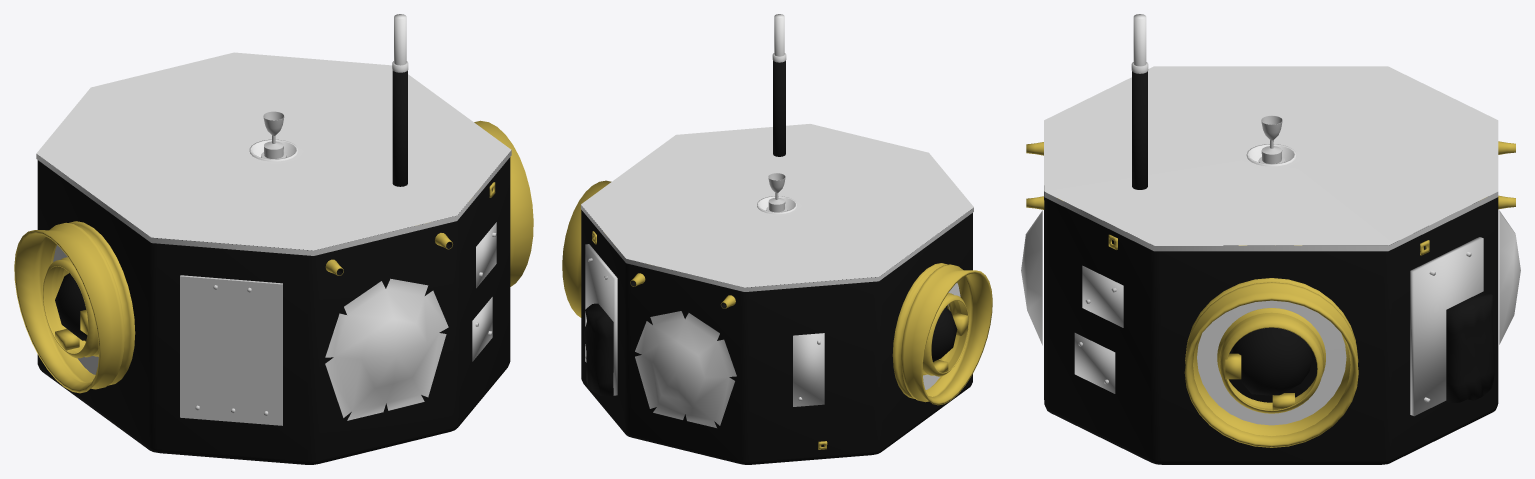
The model's file is ibex.fbx.
3 renders of one model, left to right at view 1: azimuth 30°, elevation 25°; view 2: azimuth 150°, elevation 25°; view 3: azimuth 270°, elevation 25°, orthographic. The views are drawn at different scales.
Parts seen in each view (by area): view 1: IBEX; view 2: IBEX; view 3: IBEX.
Part boxes in pixels (x1,y1,x2,y2): IBEX: (14,14,533,464); IBEX: (562,14,992,464); IBEX: (1021,14,1520,464).
Size of the model in its own units: 118 by 98.04 by 112.
